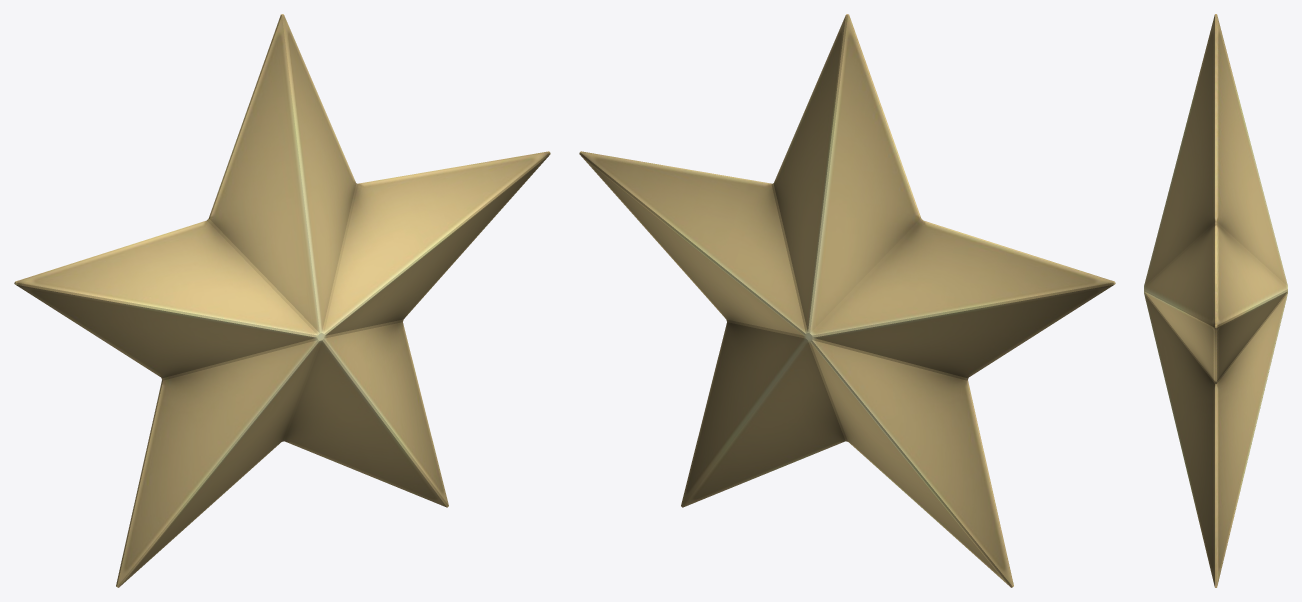
Rendered from star(5).glb.
3 renders of one model, left to right at view 1: azimuth 30°, elevation 25°; view 2: azimuth 150°, elevation 25°; view 3: azimuth 270°, elevation 25°, orthographic. The views are drawn at different scales.
Visible parts, largest first — view 1: star-5; view 2: star-5; view 3: star-5.
Part boxes in pixels (bbox=[...]): star-5: bbox=[14, 14, 550, 587]; star-5: bbox=[579, 14, 1115, 587]; star-5: bbox=[1144, 14, 1287, 587].
Bounding box in the file's own units: 0.2254 × 0.2144 × 0.0561.
Materials: 1 (1 with a texture image).
